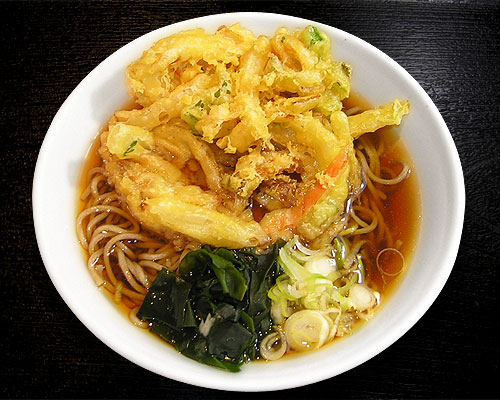Soba: (77, 178, 193, 308)
